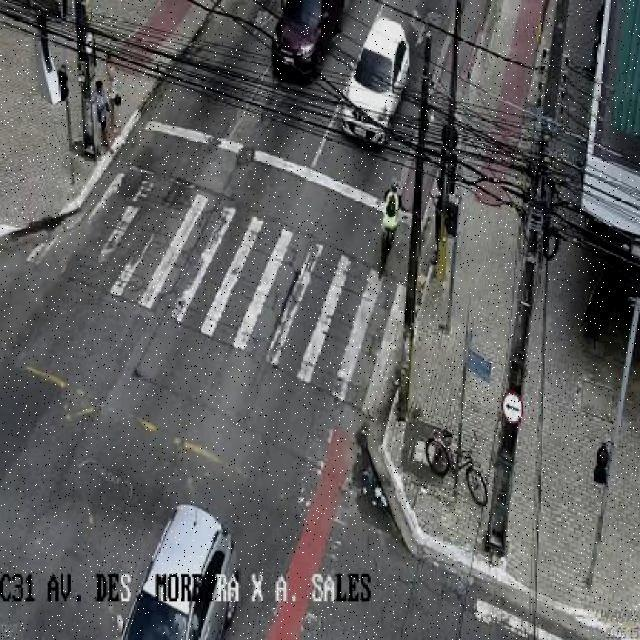Car: (114, 503, 240, 640), (339, 14, 411, 148), (266, 0, 346, 77)
Cycle: (424, 429, 489, 506)
